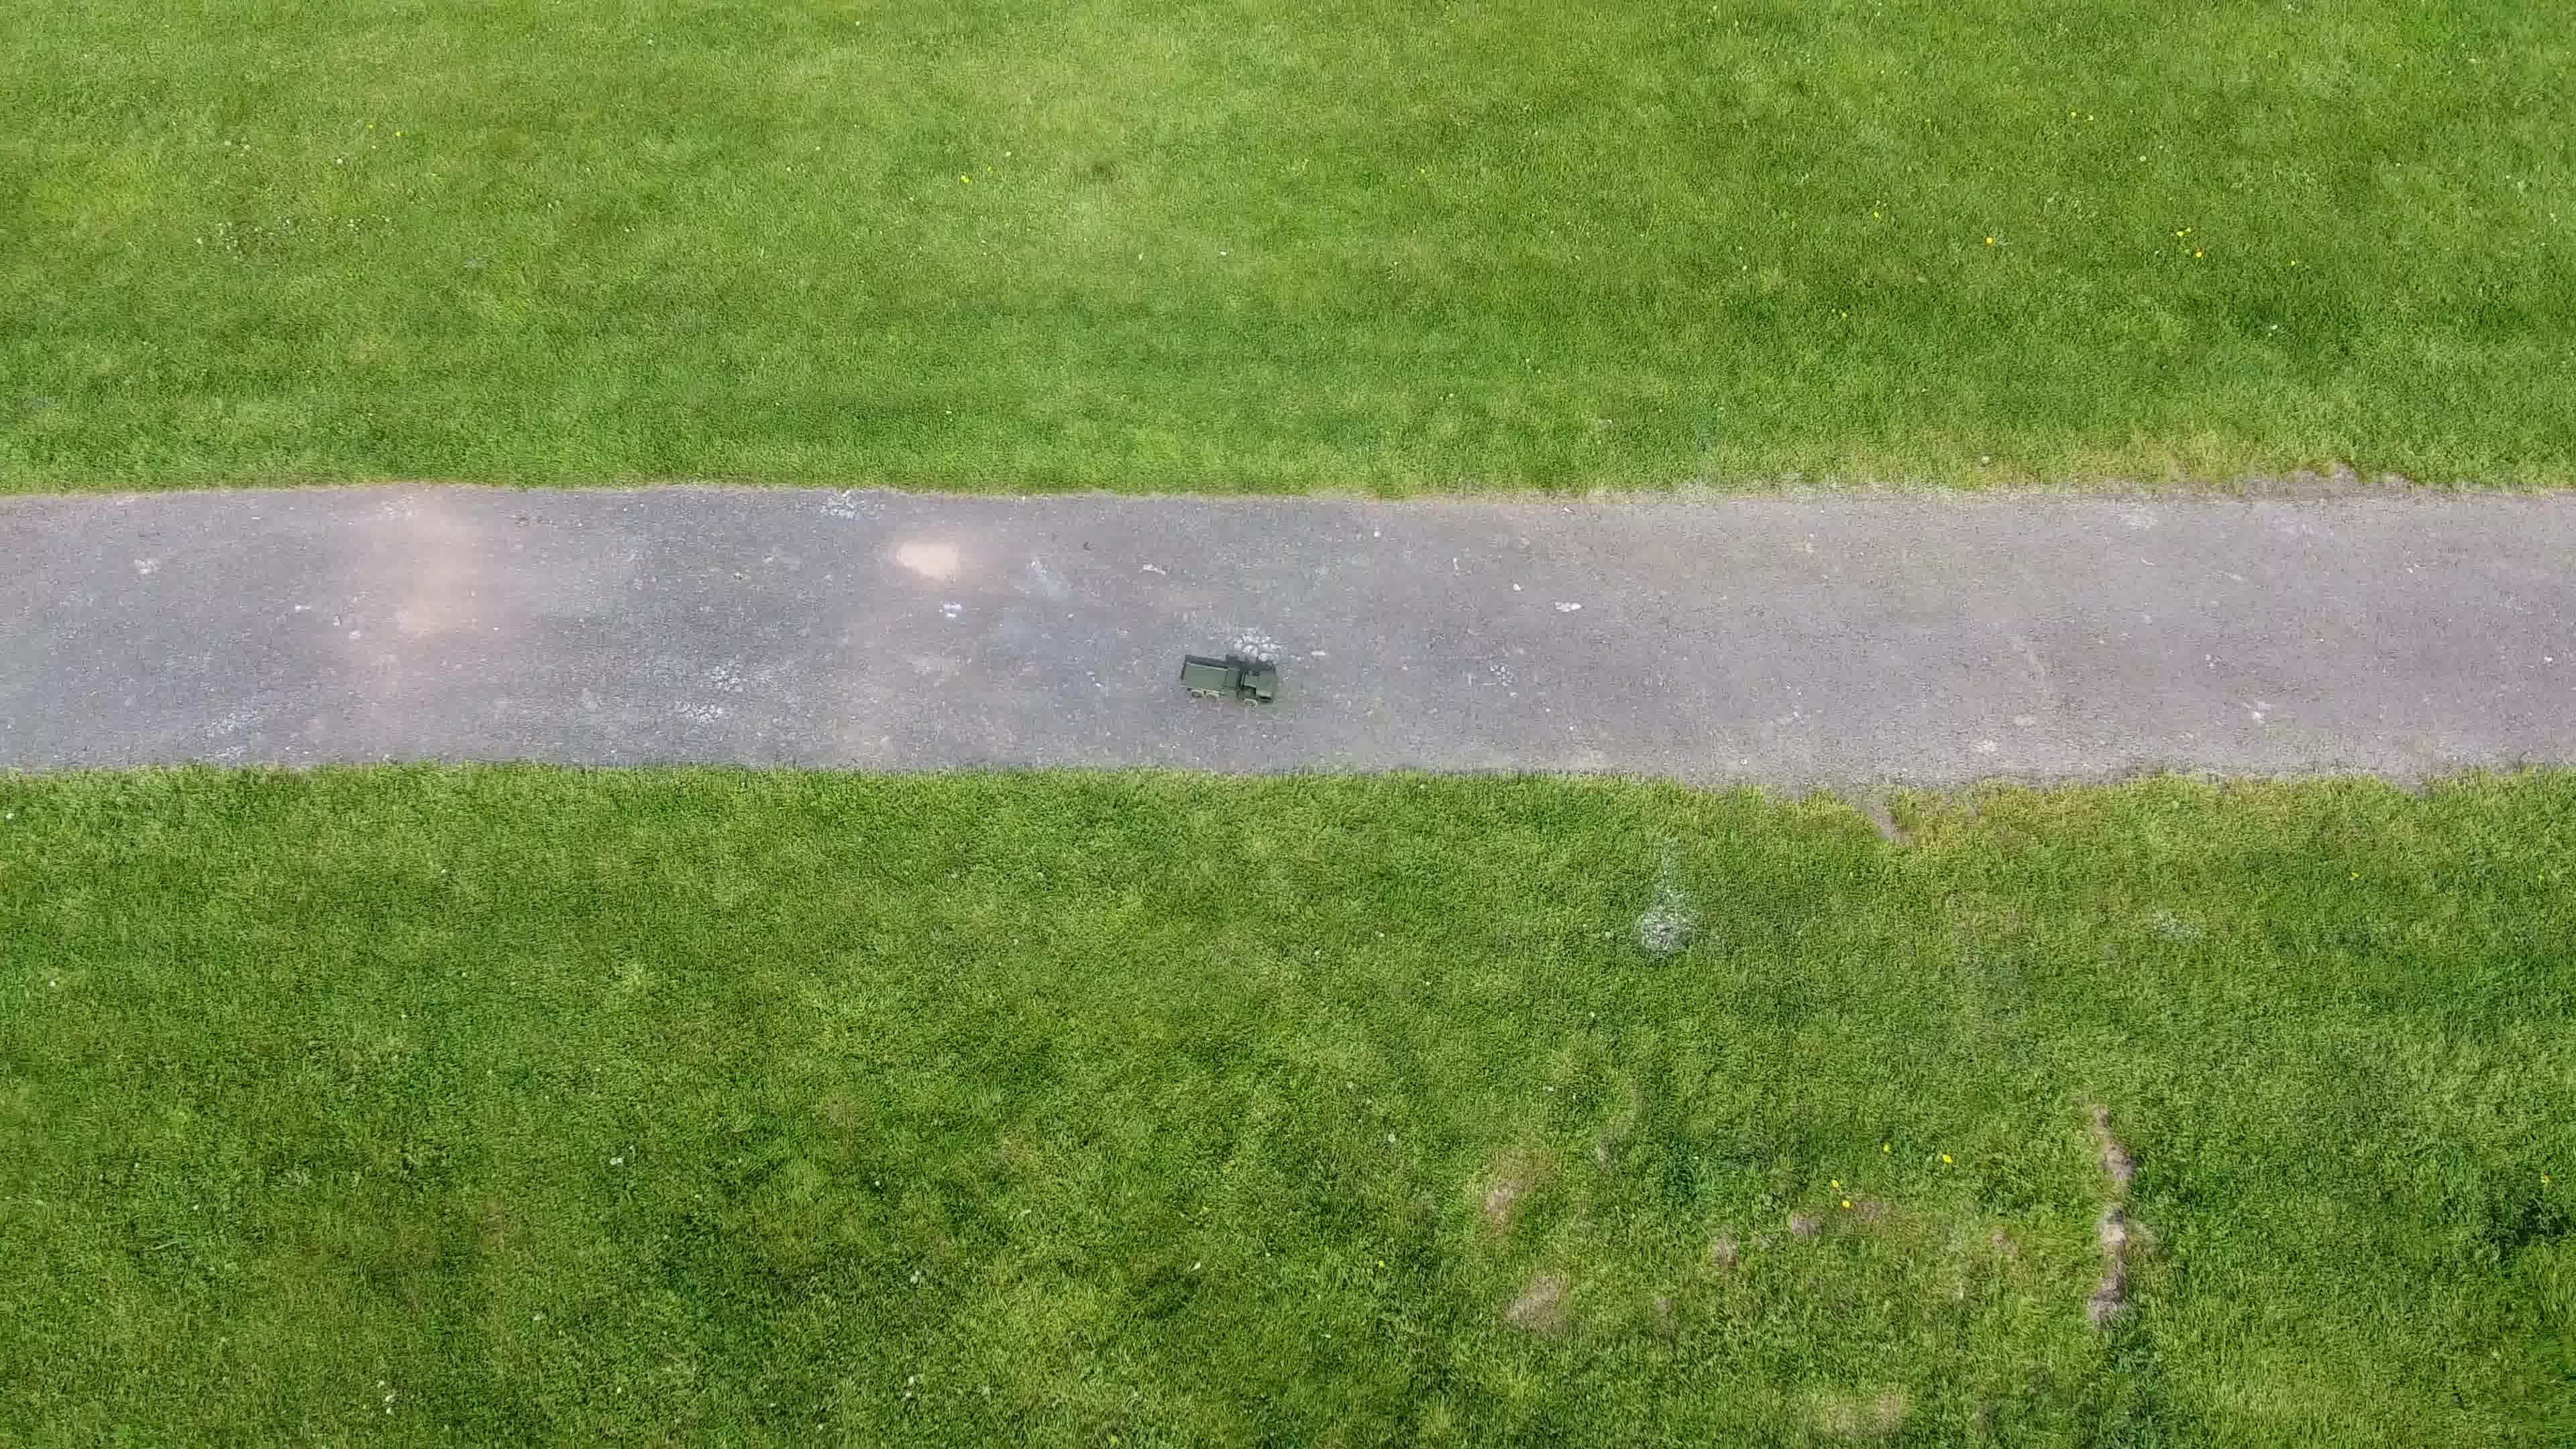transporter9: (1175, 653, 1283, 713)
